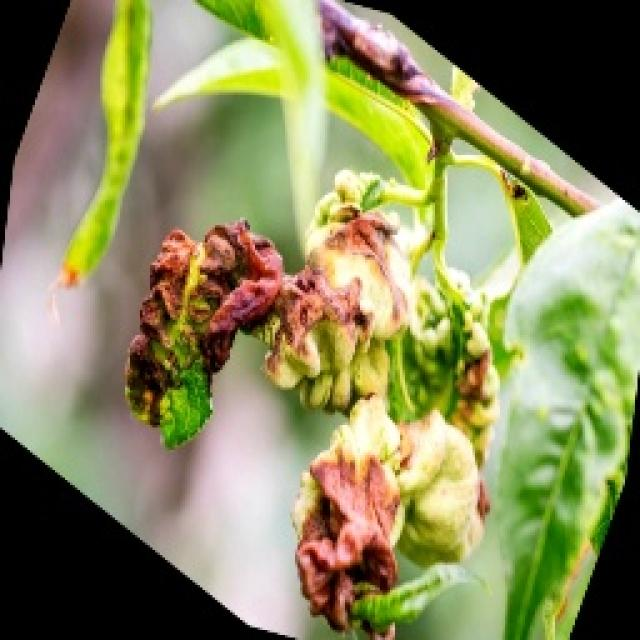peach_leaf_curl: (117, 178, 368, 443)
